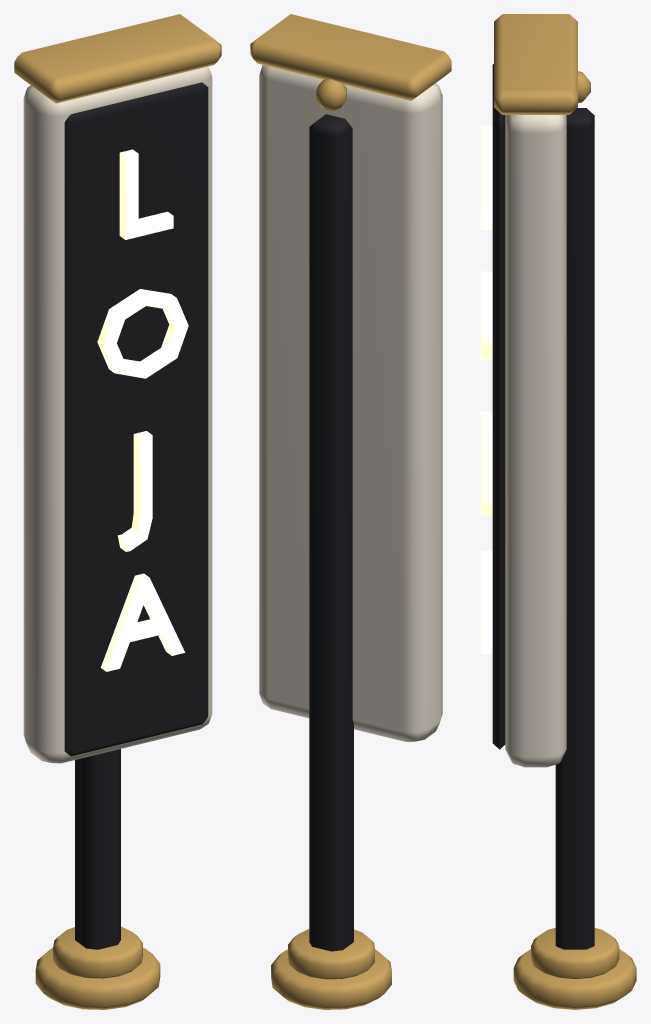
The model's file is vertical_shop_sign.glb.
3 views of the same model, side by side, from view 1: azimuth 30°, elevation 25°; view 2: azimuth 150°, elevation 25°; view 3: azimuth 270°, elevation 25° (orthographic). The views are drawn at different scales.
Parts seen in each view (by area): view 1: vertical_shop_sign; view 2: vertical_shop_sign; view 3: vertical_shop_sign.
Part boxes in pixels (x1,y1,x2,y2): vertical_shop_sign: (14, 14, 221, 1009); vertical_shop_sign: (250, 14, 451, 1009); vertical_shop_sign: (480, 14, 636, 1009).
Bounding box in the file's own units: 0.7 × 3.69 × 0.559.
